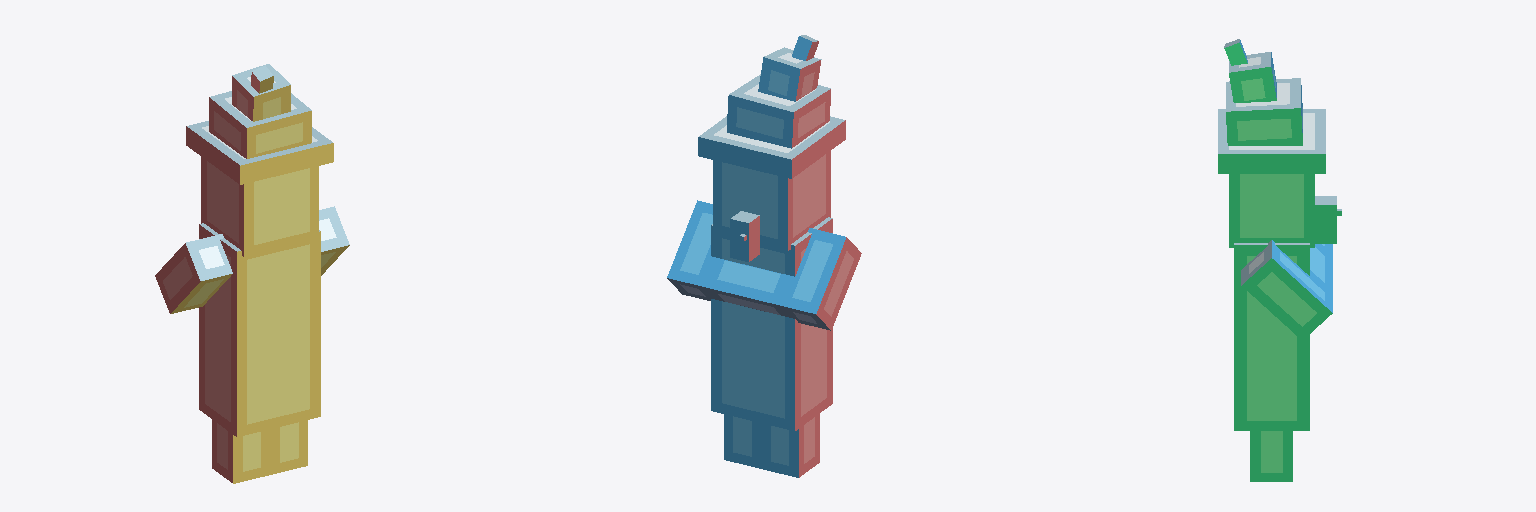
The picture shows the model from 3 angles: view 1: azimuth 30°, elevation 25°; view 2: azimuth 150°, elevation 25°; view 3: azimuth 270°, elevation 25°; orthographic projection.
Visible parts, largest first — view 1: body, head, arms, hat2, hat, leg1, hat3, leg0; view 2: body, arms, head, hat2, hat, leg1, hat3, leg0, nose; view 3: body, head, arms, hat, hat2, leg0, hat3, nose.
Boxes of the visible parts, x1=… form: body: x1=199, y1=223, x2=320, y2=436; head: x1=201, y1=157, x2=318, y2=256; arms: x1=155, y1=206, x2=349, y2=313; hat2: x1=209, y1=91, x2=311, y2=158; hat: x1=186, y1=121, x2=333, y2=184; leg1: x1=212, y1=420, x2=270, y2=483; hat3: x1=232, y1=64, x2=290, y2=121; leg0: x1=271, y1=420, x2=307, y2=474; body: x1=711, y1=217, x2=832, y2=430; arms: x1=667, y1=200, x2=861, y2=330; head: x1=713, y1=151, x2=830, y2=251; hat2: x1=727, y1=74, x2=830, y2=148; hat: x1=698, y1=116, x2=845, y2=178; leg1: x1=761, y1=414, x2=819, y2=477; hat3: x1=758, y1=47, x2=821, y2=101; leg0: x1=724, y1=414, x2=760, y2=468; nose: x1=730, y1=211, x2=759, y2=261; body: x1=1234, y1=243, x2=1309, y2=430; head: x1=1229, y1=174, x2=1314, y2=247; arms: x1=1241, y1=240, x2=1332, y2=340; hat: x1=1218, y1=109, x2=1325, y2=173; hat2: x1=1226, y1=78, x2=1302, y2=145; leg0: x1=1250, y1=431, x2=1292, y2=481; hat3: x1=1229, y1=52, x2=1276, y2=102; nose: x1=1315, y1=196, x2=1341, y2=243.
Bounding box in the file's own units: 1 × 2.66 × 0.7188.
1 materials, 1 textured.